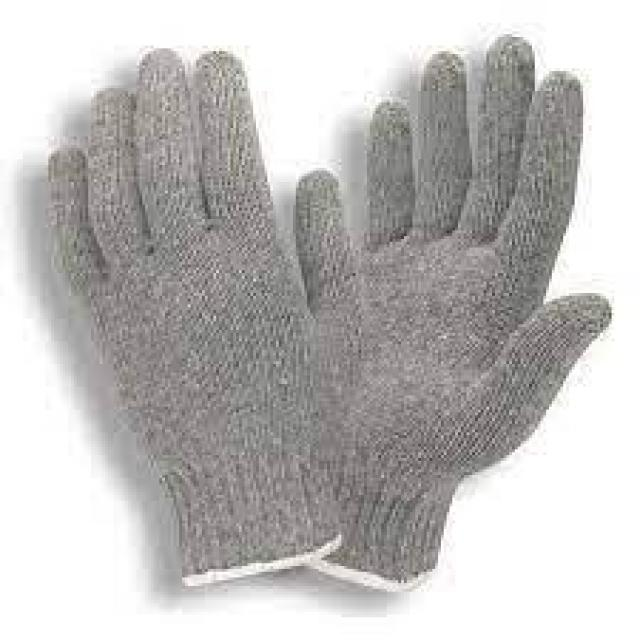Clothes -Biodegradable-: (45, 34, 609, 597)
